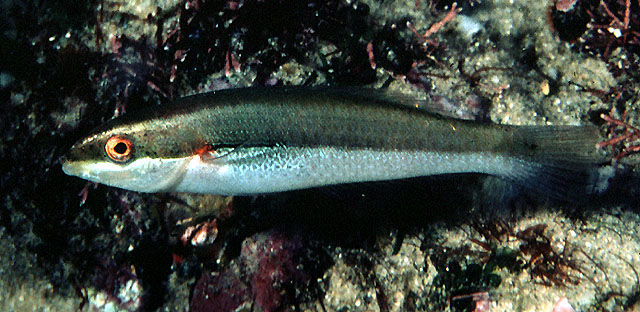fish: (60, 86, 599, 205)
